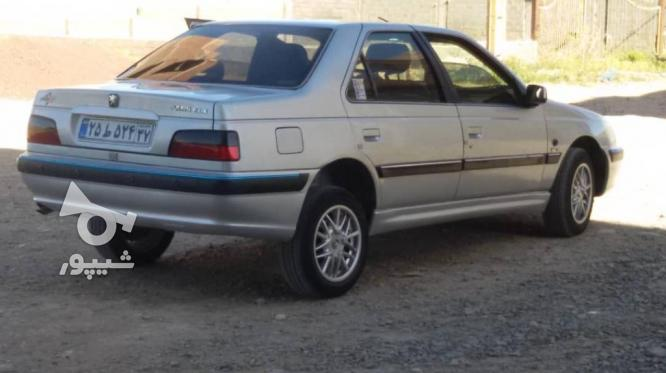car: (79, 115, 153, 149)
